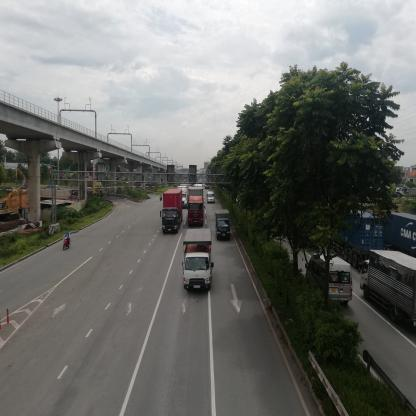car: (209, 192, 215, 203)
container: (165, 188, 184, 237), (189, 188, 205, 228)
motorbike: (64, 232, 75, 253), (161, 195, 164, 202)
truck: (184, 230, 216, 291), (217, 210, 232, 242)
